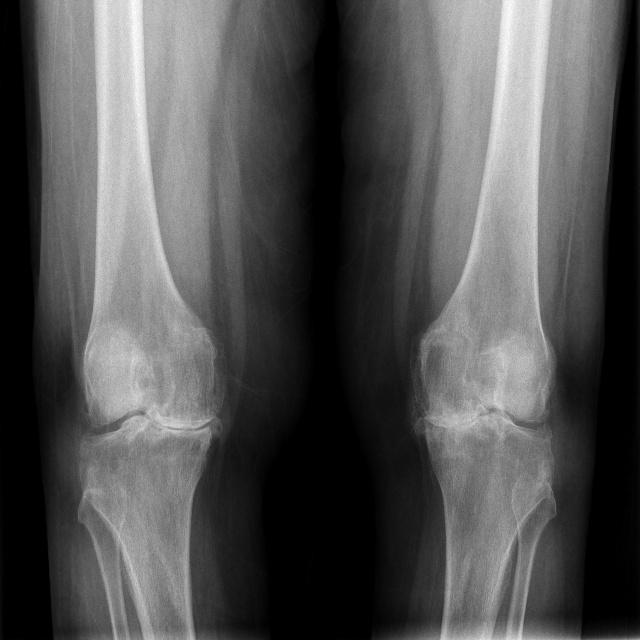Knee: (72, 333, 223, 494), (411, 332, 559, 489)
